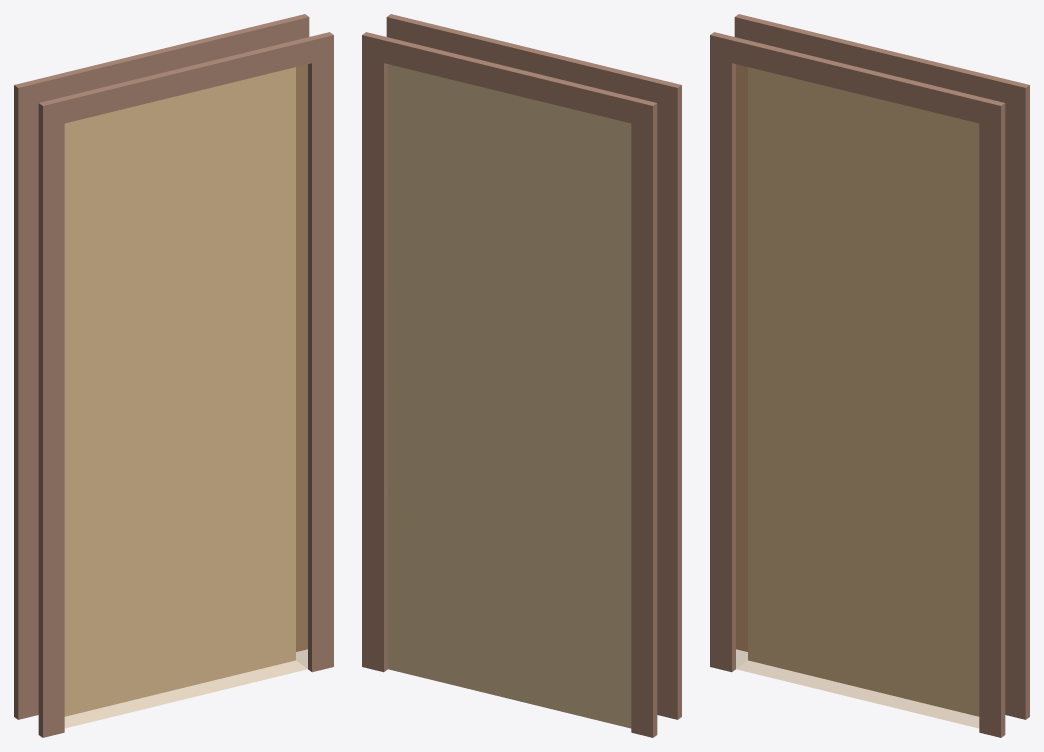
File: door-0864-x-2032mm.glb
3 renders of one model, left to right at view 1: azimuth 30°, elevation 25°; view 2: azimuth 150°, elevation 25°; view 3: azimuth 330°, elevation 25°, orthographic.
Visible parts, largest first — view 1: 1hOSvn6df7F8_7GcBWlSFK, 1xS3BCk291UvhgP2dvNozF; view 2: 1hOSvn6df7F8_7GcBWlSFK; view 3: 1hOSvn6df7F8_7GcBWlSFK, 1xS3BCk291UvhgP2dvNozF.
Part boxes in pixels (x1=…): 1hOSvn6df7F8_7GcBWlSFK: x1=14, y1=14, x2=333, y2=737; 1xS3BCk291UvhgP2dvNozF: x1=65, y1=64, x2=307, y2=728; 1hOSvn6df7F8_7GcBWlSFK: x1=362, y1=14, x2=681, y2=737; 1hOSvn6df7F8_7GcBWlSFK: x1=710, y1=14, x2=1029, y2=737; 1xS3BCk291UvhgP2dvNozF: x1=736, y1=64, x2=978, y2=728.
Bounding box in the file's own units: 1.02 × 2.11 × 0.174.
